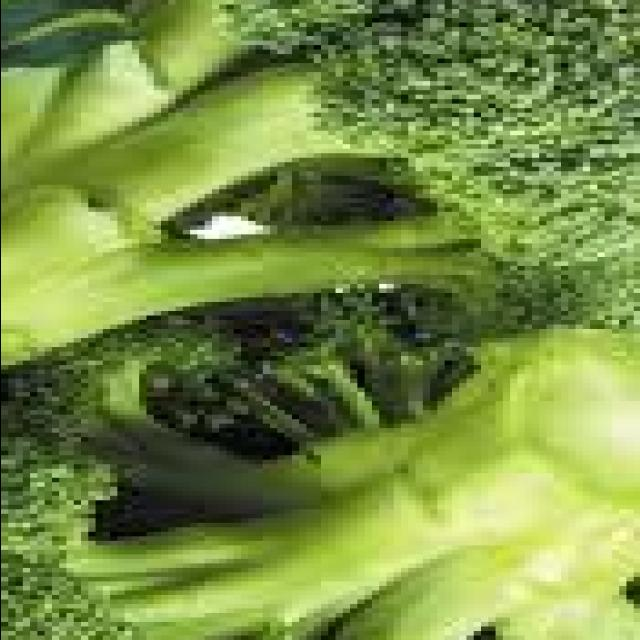broccoli: (0, 290, 640, 640)
